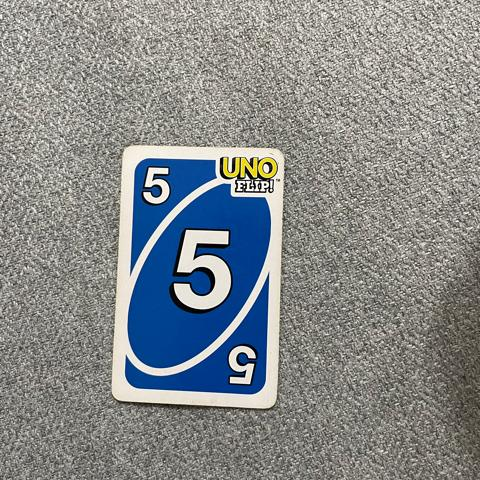lblue-5: (130, 154, 181, 218)
